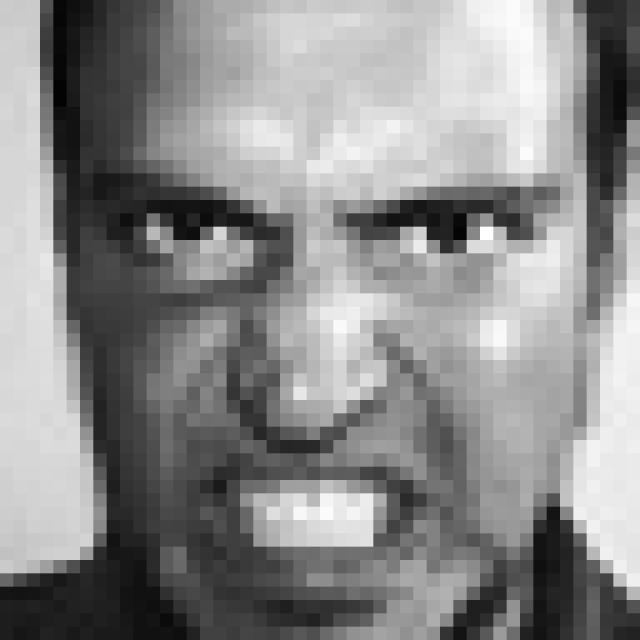angry: (95, 171, 555, 606)
